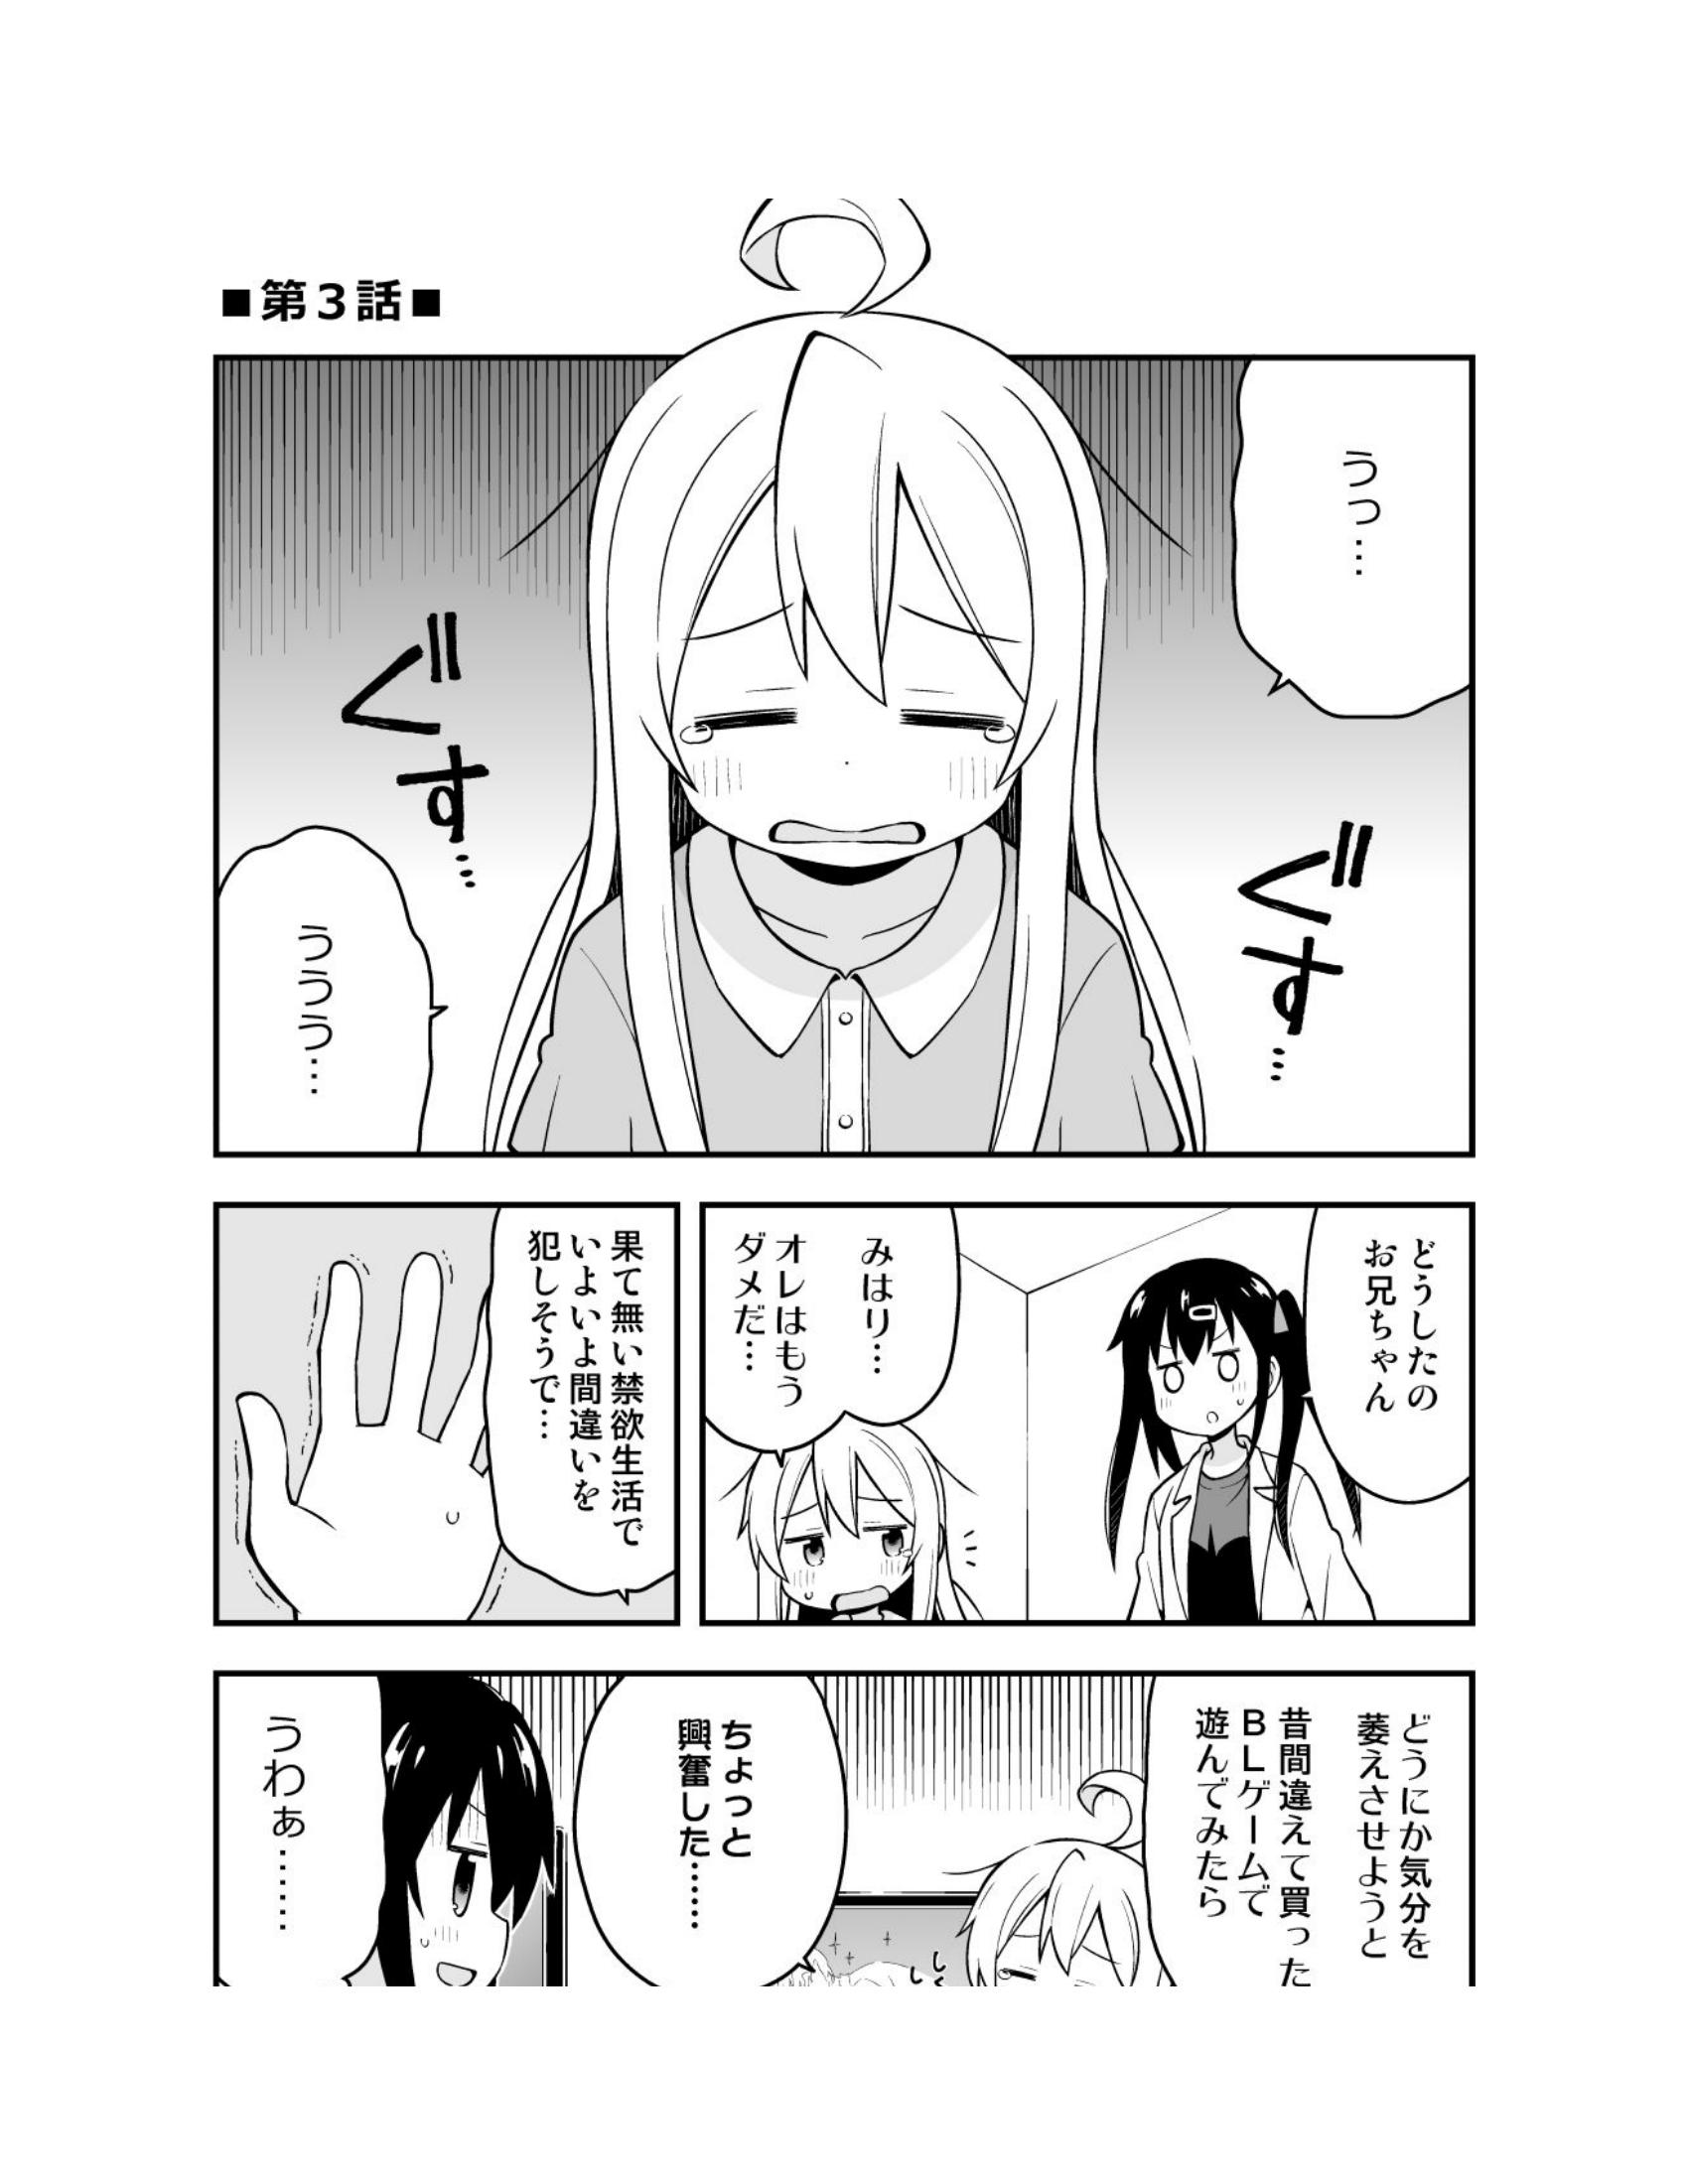a: (137, 808, 429, 1177), (1227, 1168, 1530, 1517), (1126, 1679, 1473, 1978), (1220, 340, 1497, 707), (560, 1682, 878, 1975), (463, 1205, 702, 1562), (709, 1181, 968, 1423), (200, 1675, 388, 2000)
